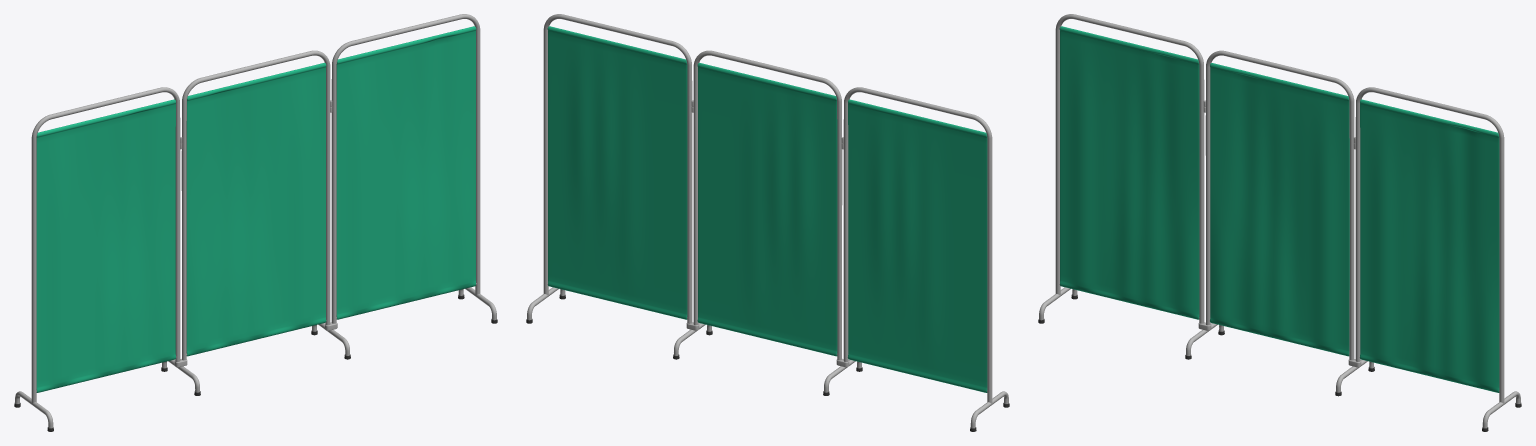
Rendered from Curtains.fbx.
3 renders of one model, left to right at view 1: azimuth 30°, elevation 25°; view 2: azimuth 150°, elevation 25°; view 3: azimuth 330°, elevation 25°, orthographic.
Visible parts, largest first — view 1: cadnav.com; view 2: cadnav.com; view 3: cadnav.com.
Part boxes in pixels (left/top/right/bottom): cadnav.com: left=14, top=14, right=497, bottom=431; cadnav.com: left=526, top=14, right=1009, bottom=431; cadnav.com: left=1038, top=14, right=1521, bottom=431.
Bounding box in the file's own units: 1232 × 786 × 173.
